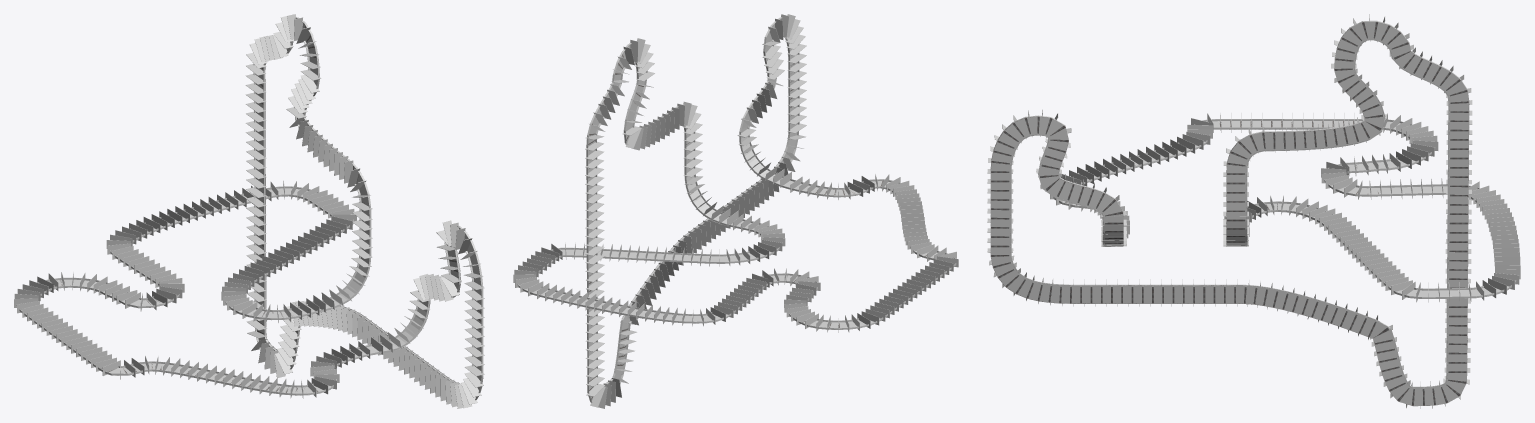
Rendered from Track4.fbx.
3 renders of one model, left to right at view 1: azimuth 30°, elevation 25°; view 2: azimuth 150°, elevation 25°; view 3: azimuth 270°, elevation 25°, orthographic. The views are drawn at different scales.
Visible parts, largest first — view 1: TrackFloor, TrackWalls, TrackWallsAI, TrackHolo, TrackStructure; view 2: TrackFloor, TrackWalls, TrackWallsAI, TrackHolo, TrackStructure; view 3: TrackHolo, TrackStructure, TrackFloor, TrackWalls, TrackWallsAI.
Boxes of the visible parts, box(x1,y1,x2,y2) form: TrackFloor: box(22, 41, 481, 397); TrackWalls: box(253, 17, 483, 400); TrackWallsAI: box(16, 186, 355, 395); TrackHolo: box(50, 18, 481, 393); TrackStructure: box(49, 26, 483, 395); TrackFloor: box(519, 19, 937, 398); TrackWalls: box(586, 17, 811, 402); TrackWallsAI: box(517, 176, 956, 329); TrackHolo: box(588, 24, 935, 400); TrackStructure: box(586, 47, 934, 400); TrackHolo: box(991, 22, 1468, 405); TrackStructure: box(990, 21, 1469, 405); TrackFloor: box(1011, 40, 1508, 387); TrackWalls: box(990, 20, 1469, 406); TrackWallsAI: box(1053, 119, 1516, 298).
Size of the model in its own units: 83304 by 84090 by 104011.
